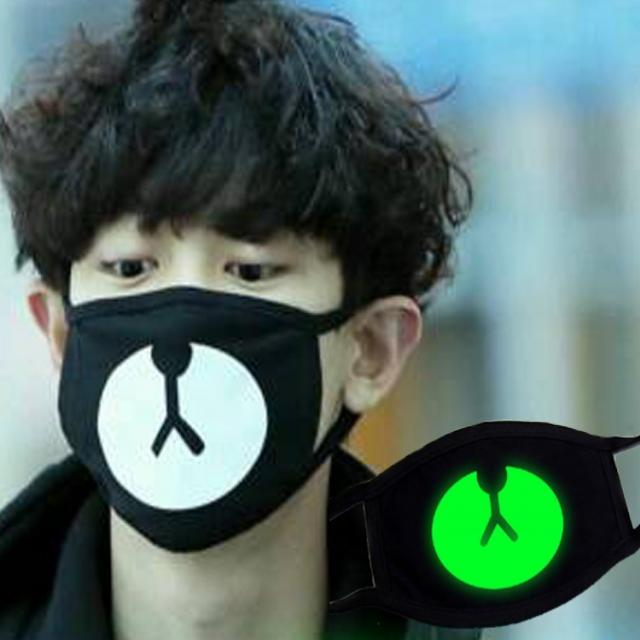mask: (65, 115, 334, 550)
